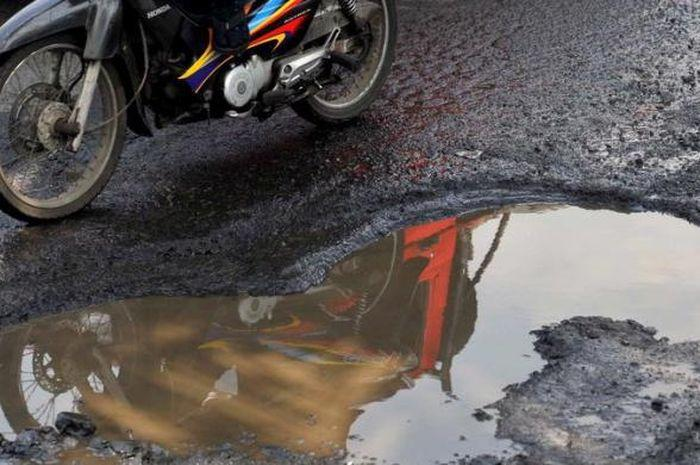Pothole: (0, 198, 700, 465)
